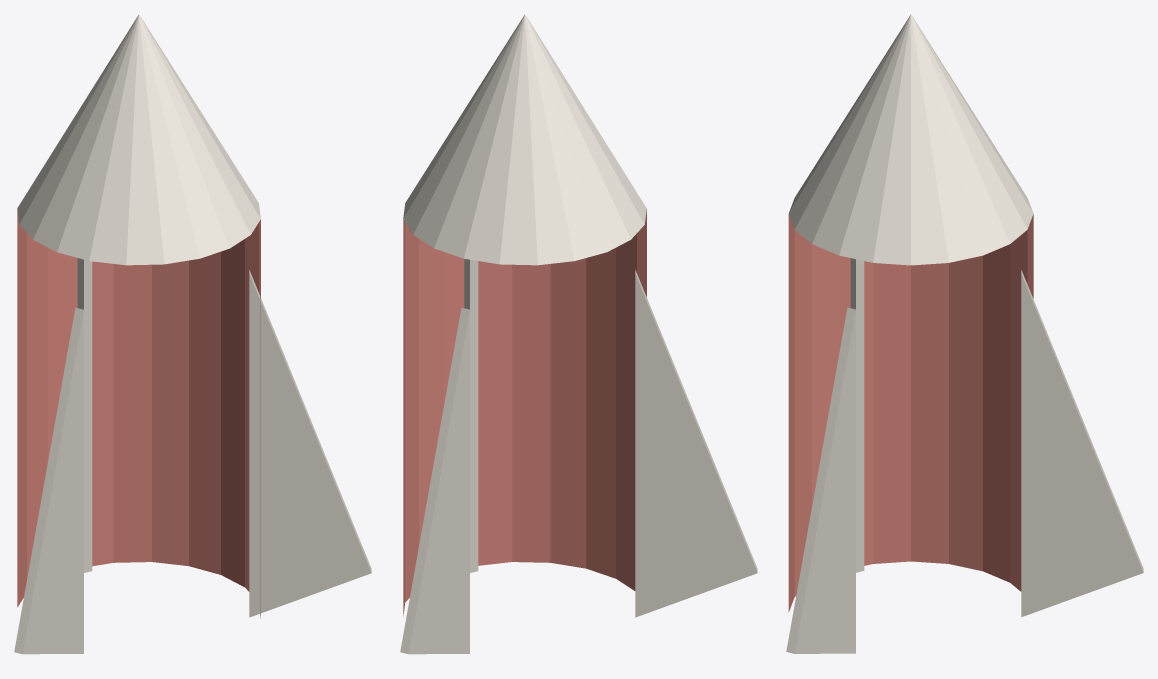
File: model3d-rocket.gltf
3 renders of one model, left to right at view 1: azimuth 30°, elevation 25°; view 2: azimuth 150°, elevation 25°; view 3: azimuth 270°, elevation 25°, orthographic.
Parts seen in each view (by area): view 1: rocket; view 2: rocket; view 3: rocket.
Boxes of the visible parts, box(x1,y1,x2,y2) form: rocket: box(14, 14, 371, 654); rocket: box(400, 14, 757, 654); rocket: box(786, 14, 1143, 653).
Bounding box in the file's own units: 1.67 × 2.7 × 1.46.
